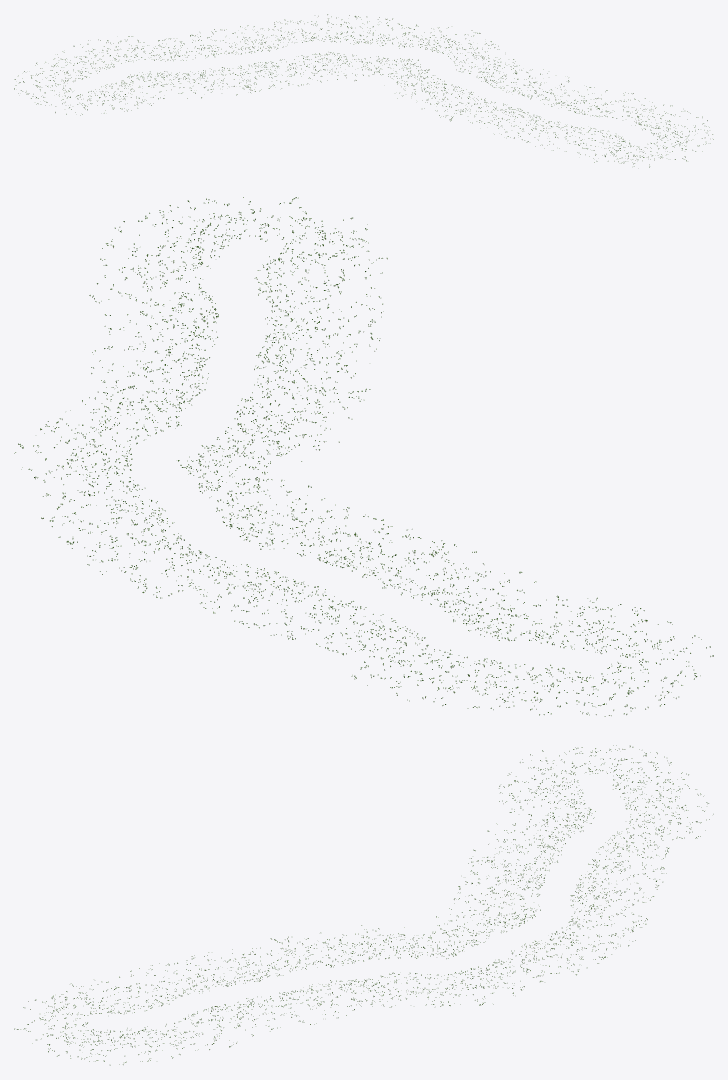
File: trees_far.glb
3 views of the same model, one above another, from view 1: azimuth 30°, elevation 25°; view 2: azimuth 150°, elevation 25°; view 3: azimuth 270°, elevation 25° (orthographic). The views are drawn at different scales.
Visible parts, largest first — view 1: TreesFar_00, TreesFar_19; view 2: TreesFar_00, TreesFar_19; view 3: TreesFar_00, TreesFar_19.
Boxes of the visible parts, box(x1,y1,x2,y2) form: TreesFar_00: box(577, 102, 713, 167); TreesFar_19: box(14, 54, 164, 115); TreesFar_00: box(100, 197, 387, 278); TreesFar_19: box(490, 595, 713, 716); TreesFar_00: box(14, 981, 198, 1065); TreesFar_19: box(499, 745, 696, 812).
Size of the model in its own units: 8795 by 100 by 8292.
